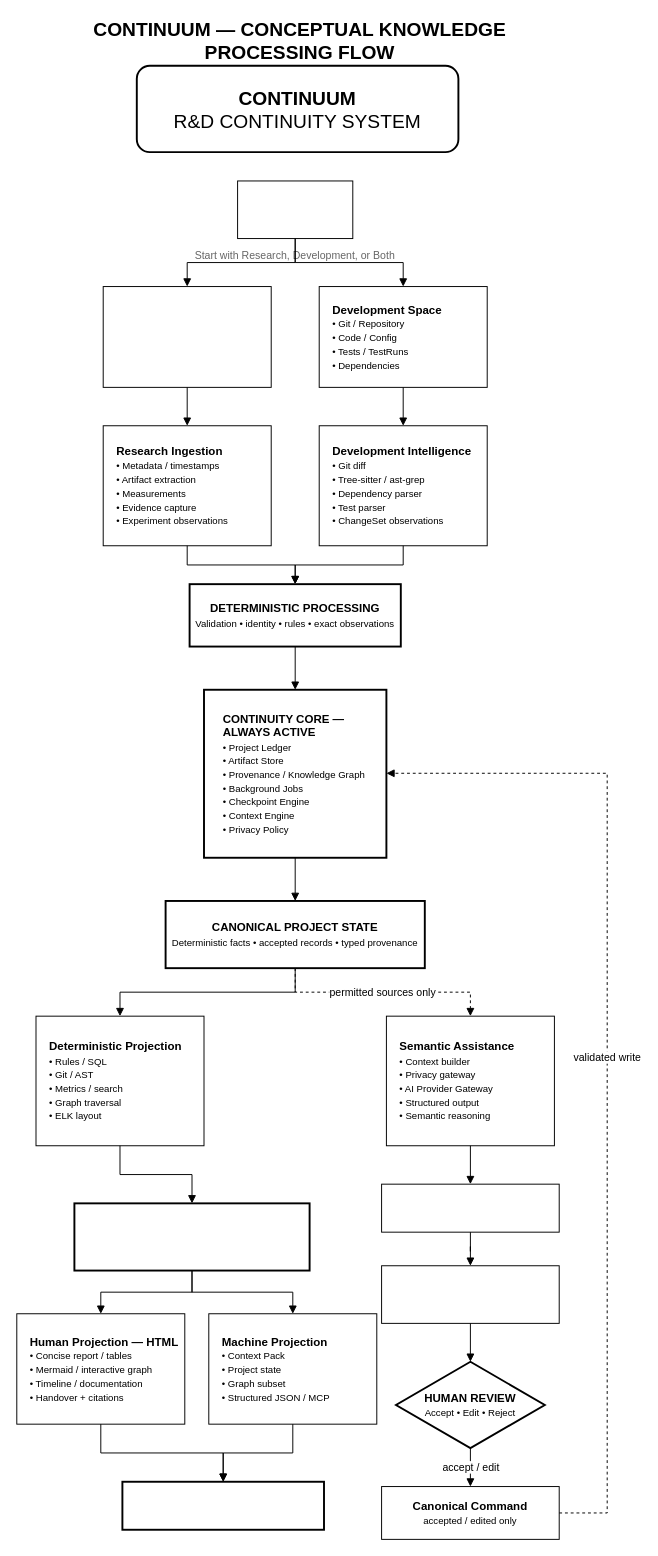
Some shapes in this 658 by 1556 pixel diagram are drawn without their labels. The centre of each missing label's shape, as x and y in pixels:
Pending AI Proposal candidate • inference • suggested link: the point at 470,1294
Research Space • Screen / Web / Notes • Audio / Files • Evidence • Experiments: the point at 186,336
RESUME / CONTINUE WORK: the point at 222,1505
Schema + Provenance Validation: the point at 470,1207
TRUSTED CURRENT PROJECT STATE Then • Since • Now • Next: the point at 191,1236
USER: the point at 295,209
